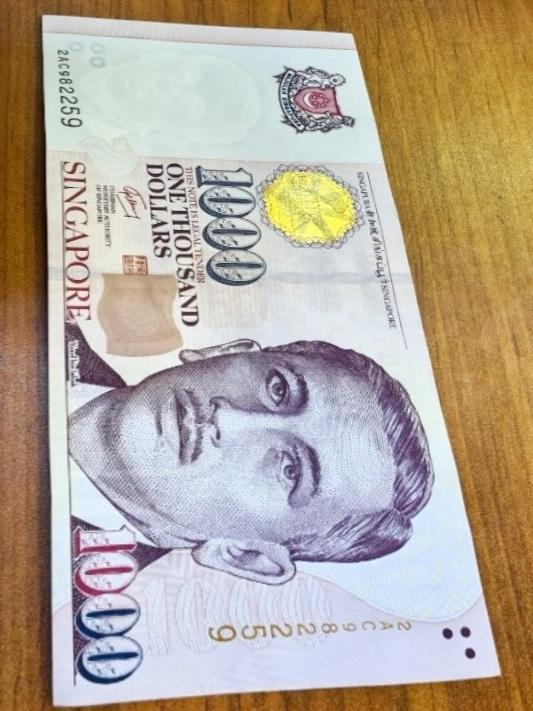1000SingaporeDollar: (57, 33, 473, 682)
